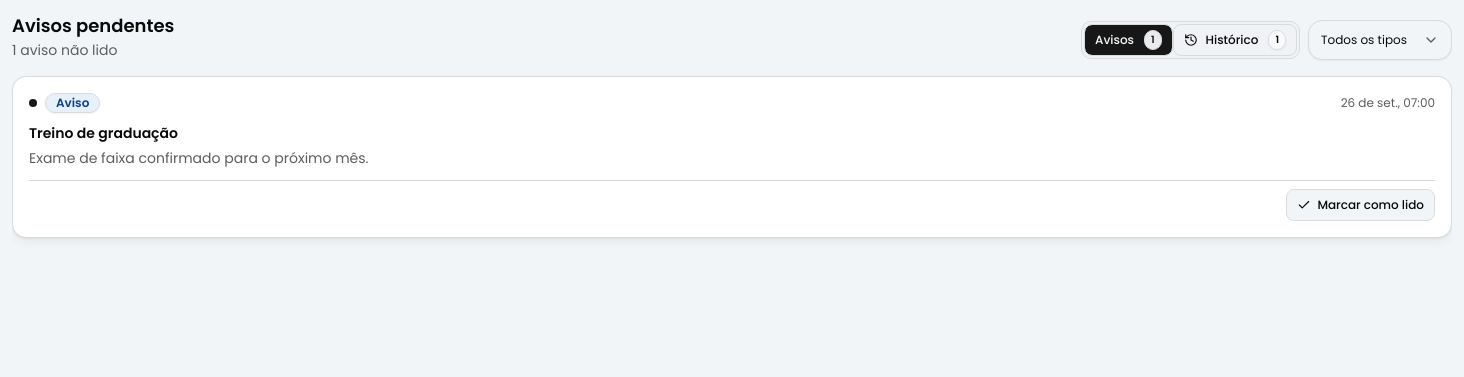
Test: NotificationInbox › moves unread notice to history tab upon marking as read
Click the button "Marcar como lido" at x=1361, y=205, box [1286, 189, 1435, 221]
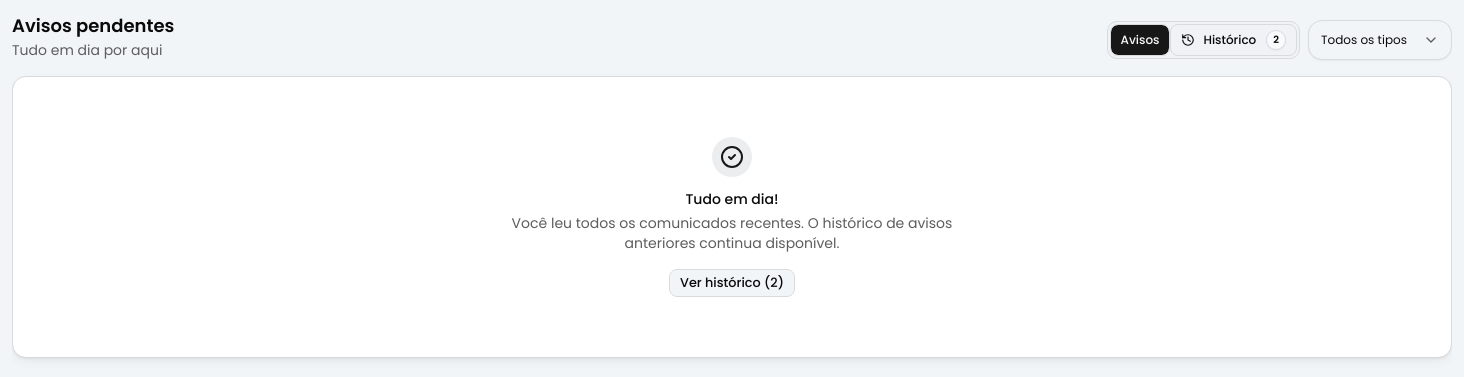
Result: the heading "Treino de graduação" is gone
Result: the heading "Tudo em dia!" is shown at [686, 189, 778, 209]
Click the button "Histórico 2" at x=1234, y=40, box [1170, 24, 1297, 56]
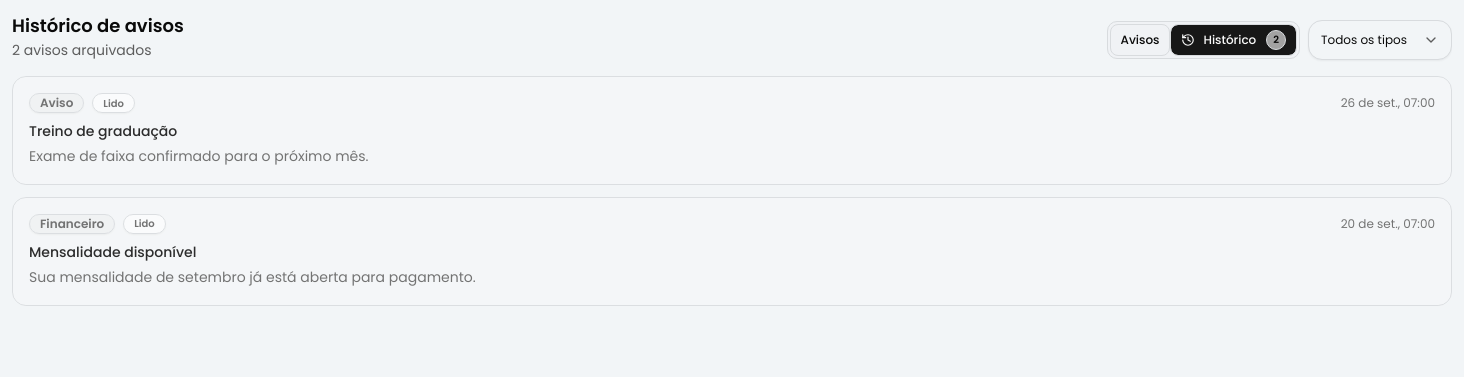
Result: the heading "Treino de graduação" is shown at [29, 121, 177, 141]
Result: the heading "Mensalidade disponível" is shown at [29, 242, 196, 262]
